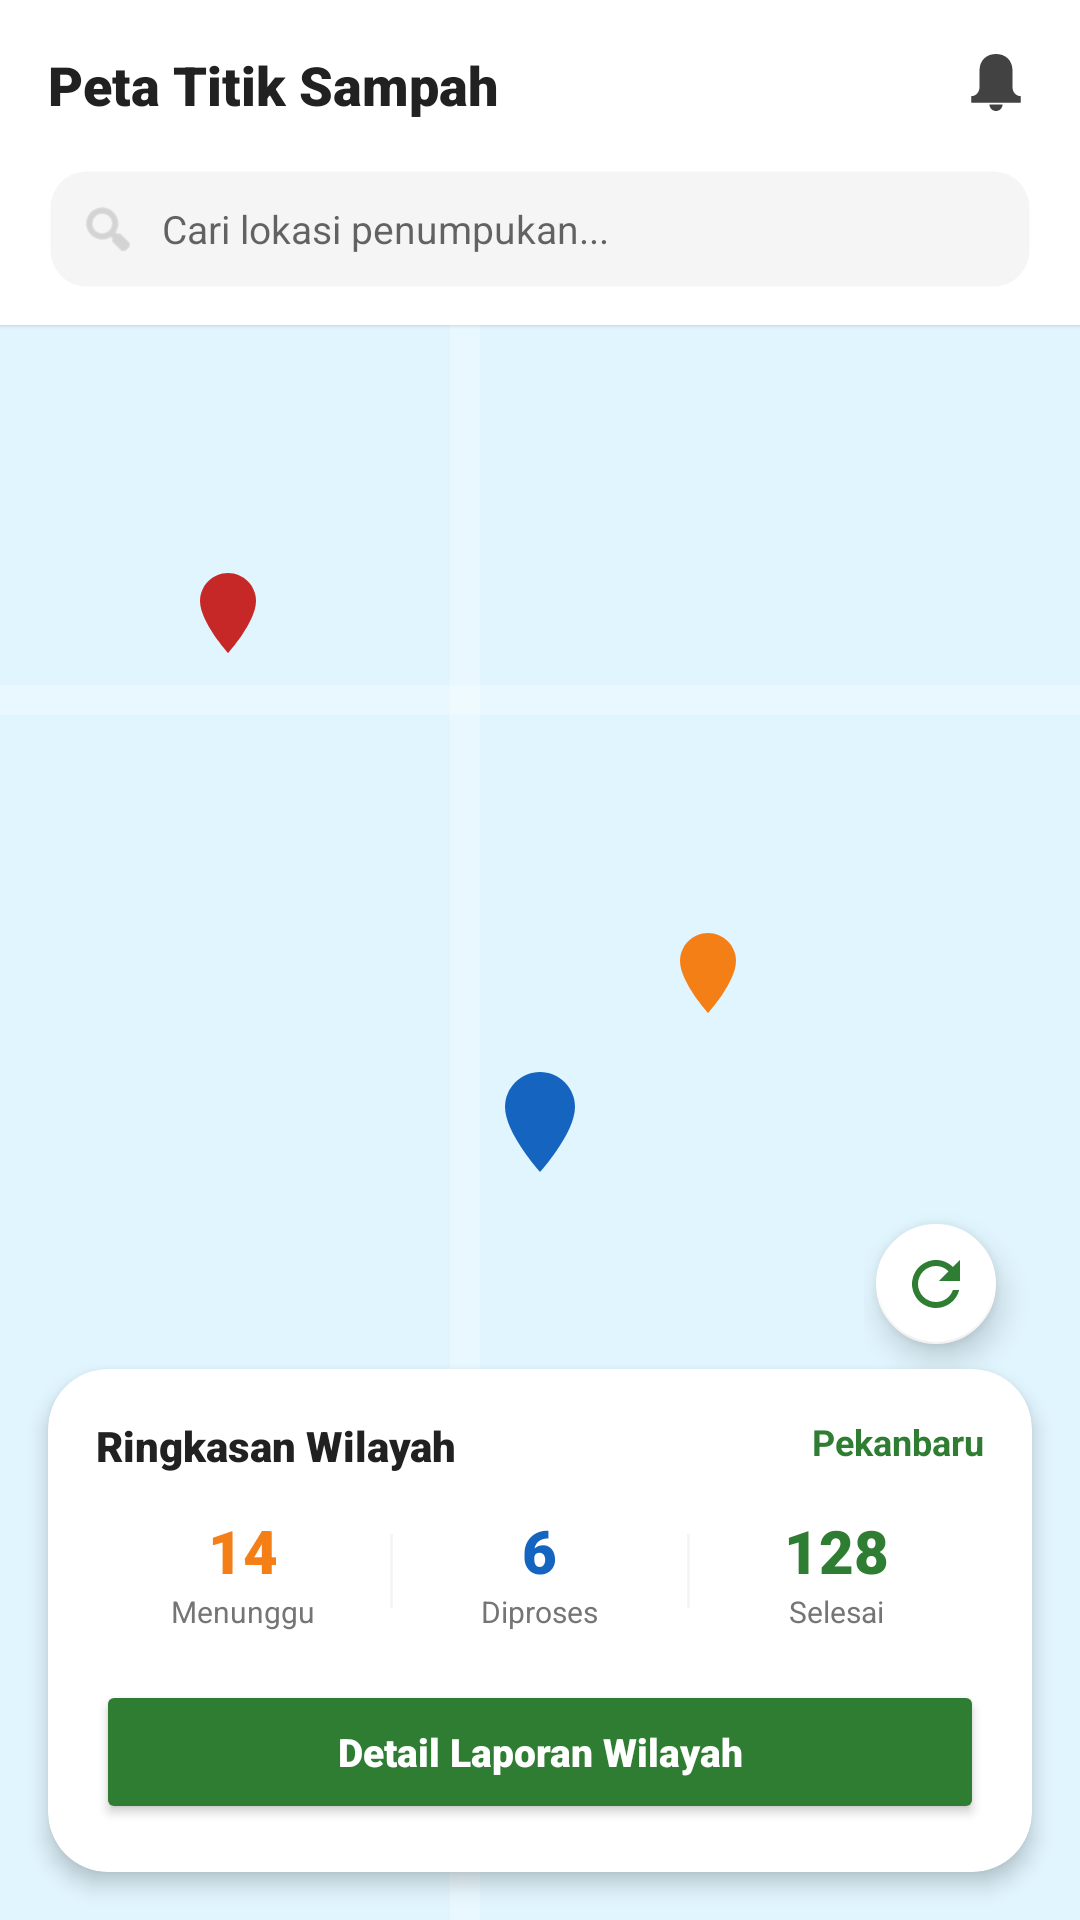

Icon bounding boxes for this 1080*1920 phone screenshot, format {"left": x1, "top": y1, "right": x2, "bottom": y2}:
notifications: {"left": 971, "top": 54, "right": 1021, "bottom": 111}
refresh: {"left": 876, "top": 1224, "right": 999, "bottom": 1355}
search: {"left": 87, "top": 208, "right": 129, "bottom": 250}
